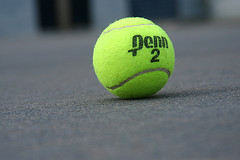tennis ball: (91, 15, 175, 100)
